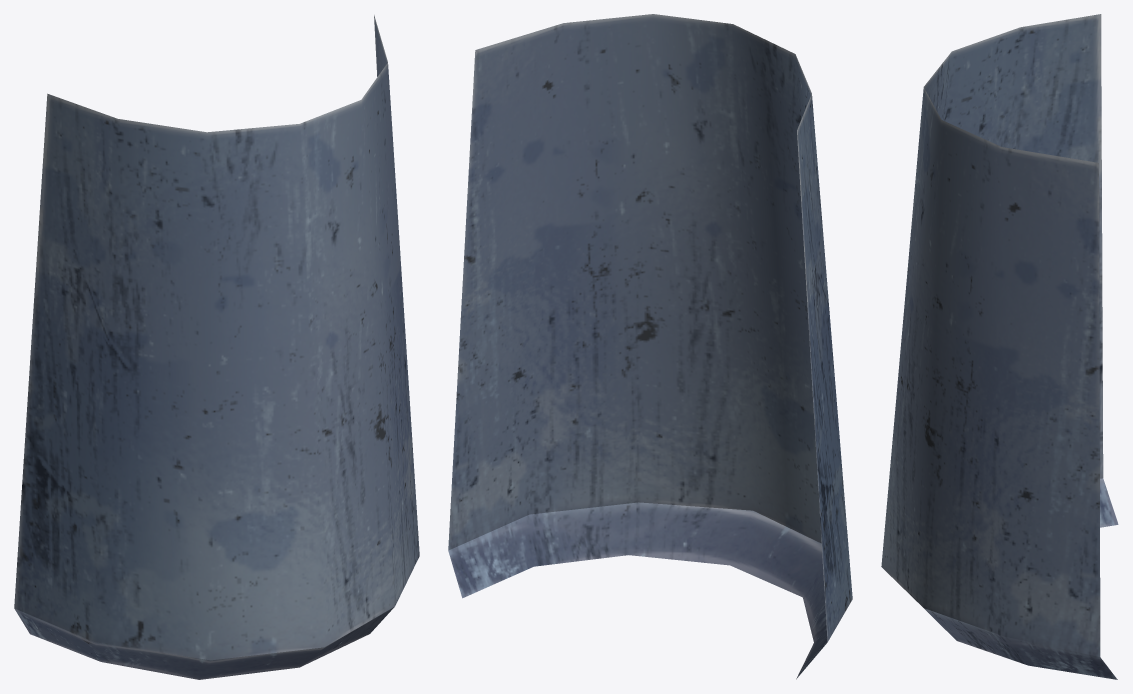
The model's file is envRoofTiles_Round_01.fbx.
3 views of the same model, side by side, from view 1: azimuth 30°, elevation 25°; view 2: azimuth 150°, elevation 25°; view 3: azimuth 270°, elevation 25° (orthographic). The views are drawn at different scales.
Visible parts, largest first — view 1: envRoofTiles_Round_01; view 2: envRoofTiles_Round_01; view 3: envRoofTiles_Round_01.
Boxes of the visible parts, x1,y1,x2,y2 form: envRoofTiles_Round_01: [14, 15, 419, 679]; envRoofTiles_Round_01: [448, 14, 852, 679]; envRoofTiles_Round_01: [881, 14, 1118, 679].
Size of the model in its own units: 17.4 by 23.72 by 9.86.
